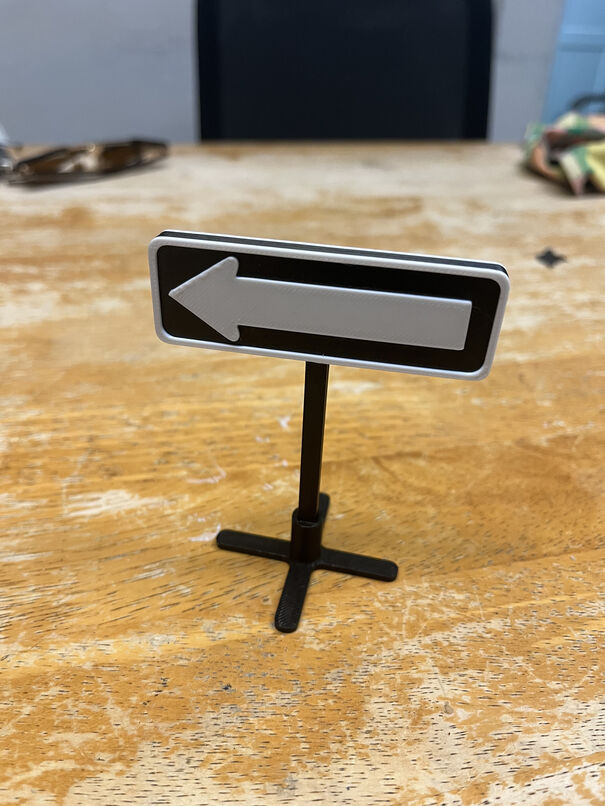sign_oneway_left: (145, 227, 505, 387)
